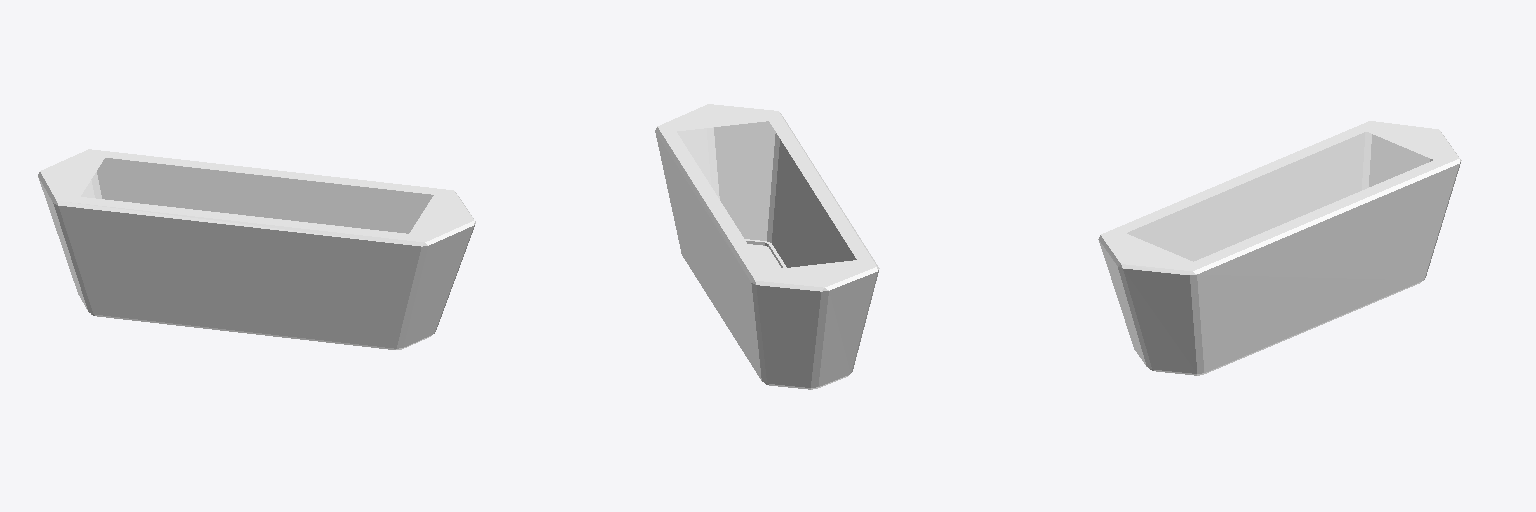
The model's file is Table_2.obj.
3 renders of one model, left to right at view 1: azimuth 30°, elevation 25°; view 2: azimuth 150°, elevation 25°; view 3: azimuth 270°, elevation 25°, orthographic.
Visible parts, largest first — view 1: Mesh170_Group145_Group144_Component_10_1_Model; view 2: Mesh170_Group145_Group144_Component_10_1_Model; view 3: Mesh170_Group145_Group144_Component_10_1_Model.
Boxes of the visible parts, <box> form: Mesh170_Group145_Group144_Component_10_1_Model: <box>38,149,475,349</box>; Mesh170_Group145_Group144_Component_10_1_Model: <box>655,104,879,389</box>; Mesh170_Group145_Group144_Component_10_1_Model: <box>1098,121,1461,375</box>.
Bounding box in the file's own units: 102 × 37.31 × 103.